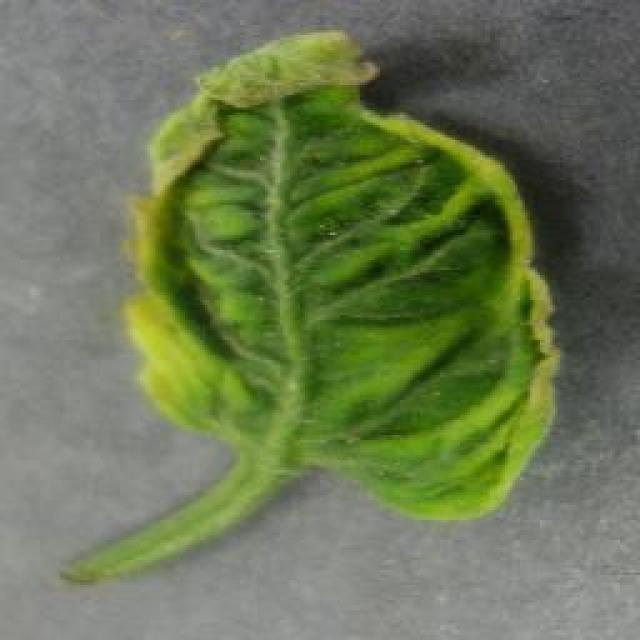Tomato yellow virus leaf: (115, 26, 562, 524)
